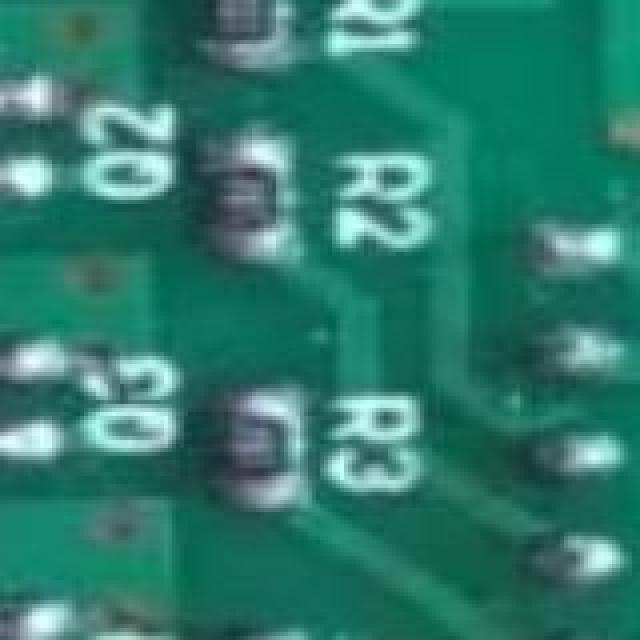resistor: (196, 380, 320, 504), (192, 152, 320, 272), (188, 0, 332, 60), (176, 628, 308, 640)
transistor: (0, 332, 32, 460), (0, 588, 76, 640), (0, 56, 12, 220)
